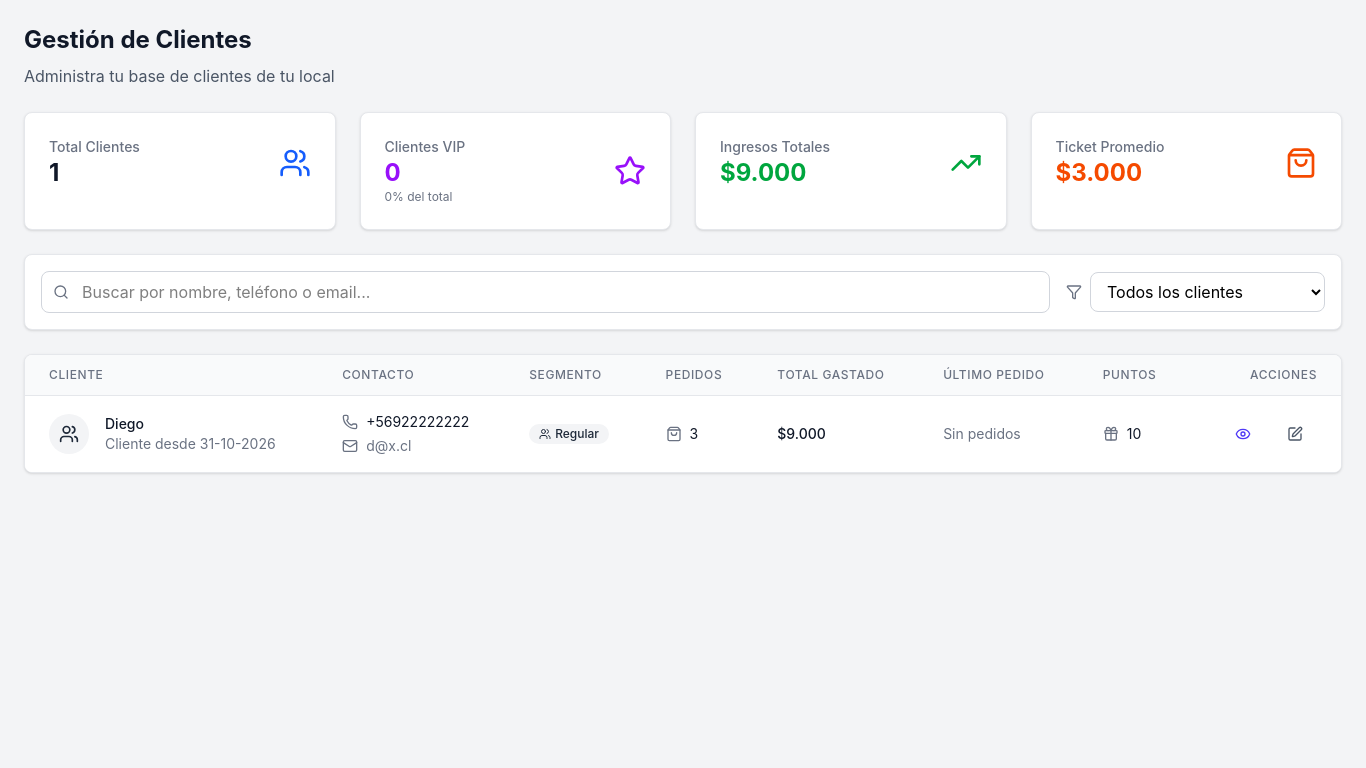
Test: admin form labels (rendered) › names the customer edit form fields
Step 1. Click the button named "Editar Diego" → (1295, 434), box top-left (1273, 412), bottom-right (1317, 456)
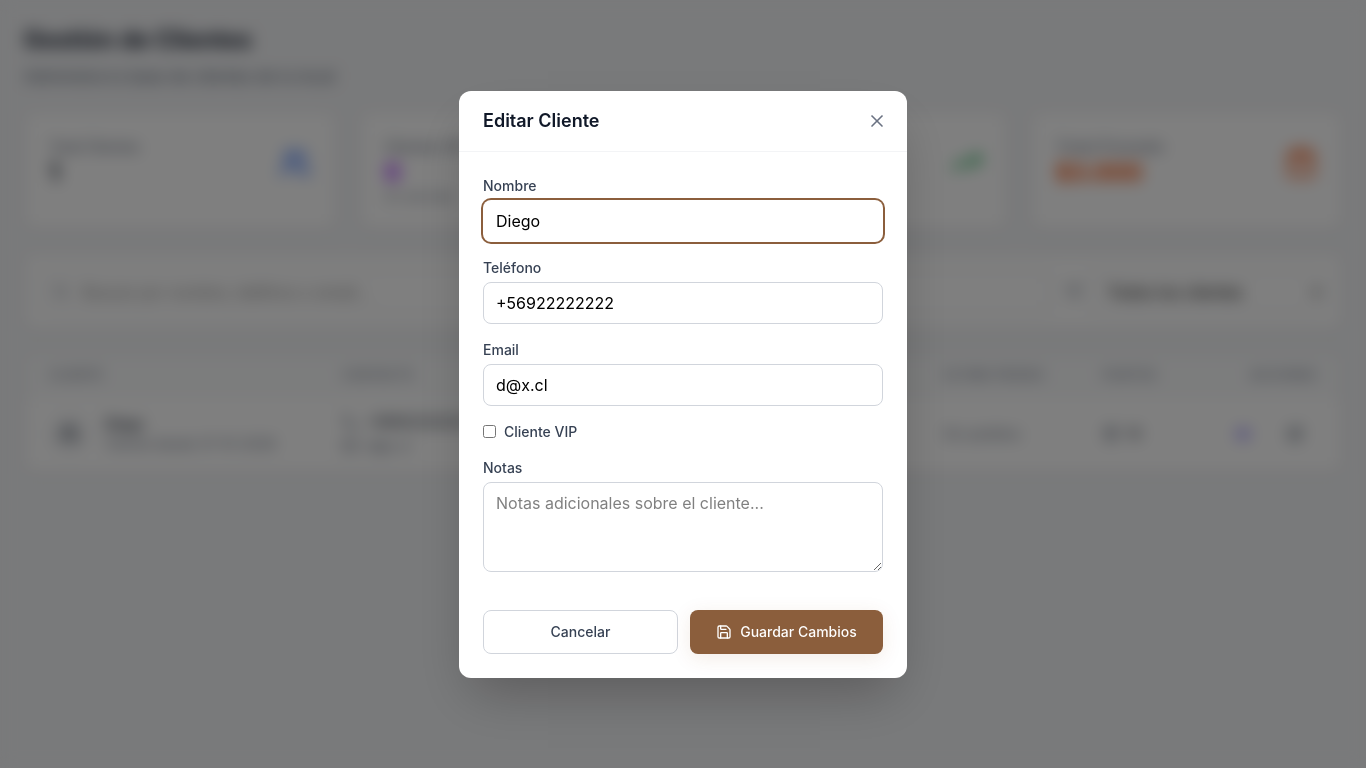
Result: the field labelled "Nombre" holds "Diego" at top-left (483, 200), bottom-right (883, 242)
Result: the field labelled "Teléfono" holds "+56922222222" at top-left (483, 282), bottom-right (883, 324)
Result: the field labelled "Email" holds "d@x.cl" at top-left (483, 364), bottom-right (883, 406)
